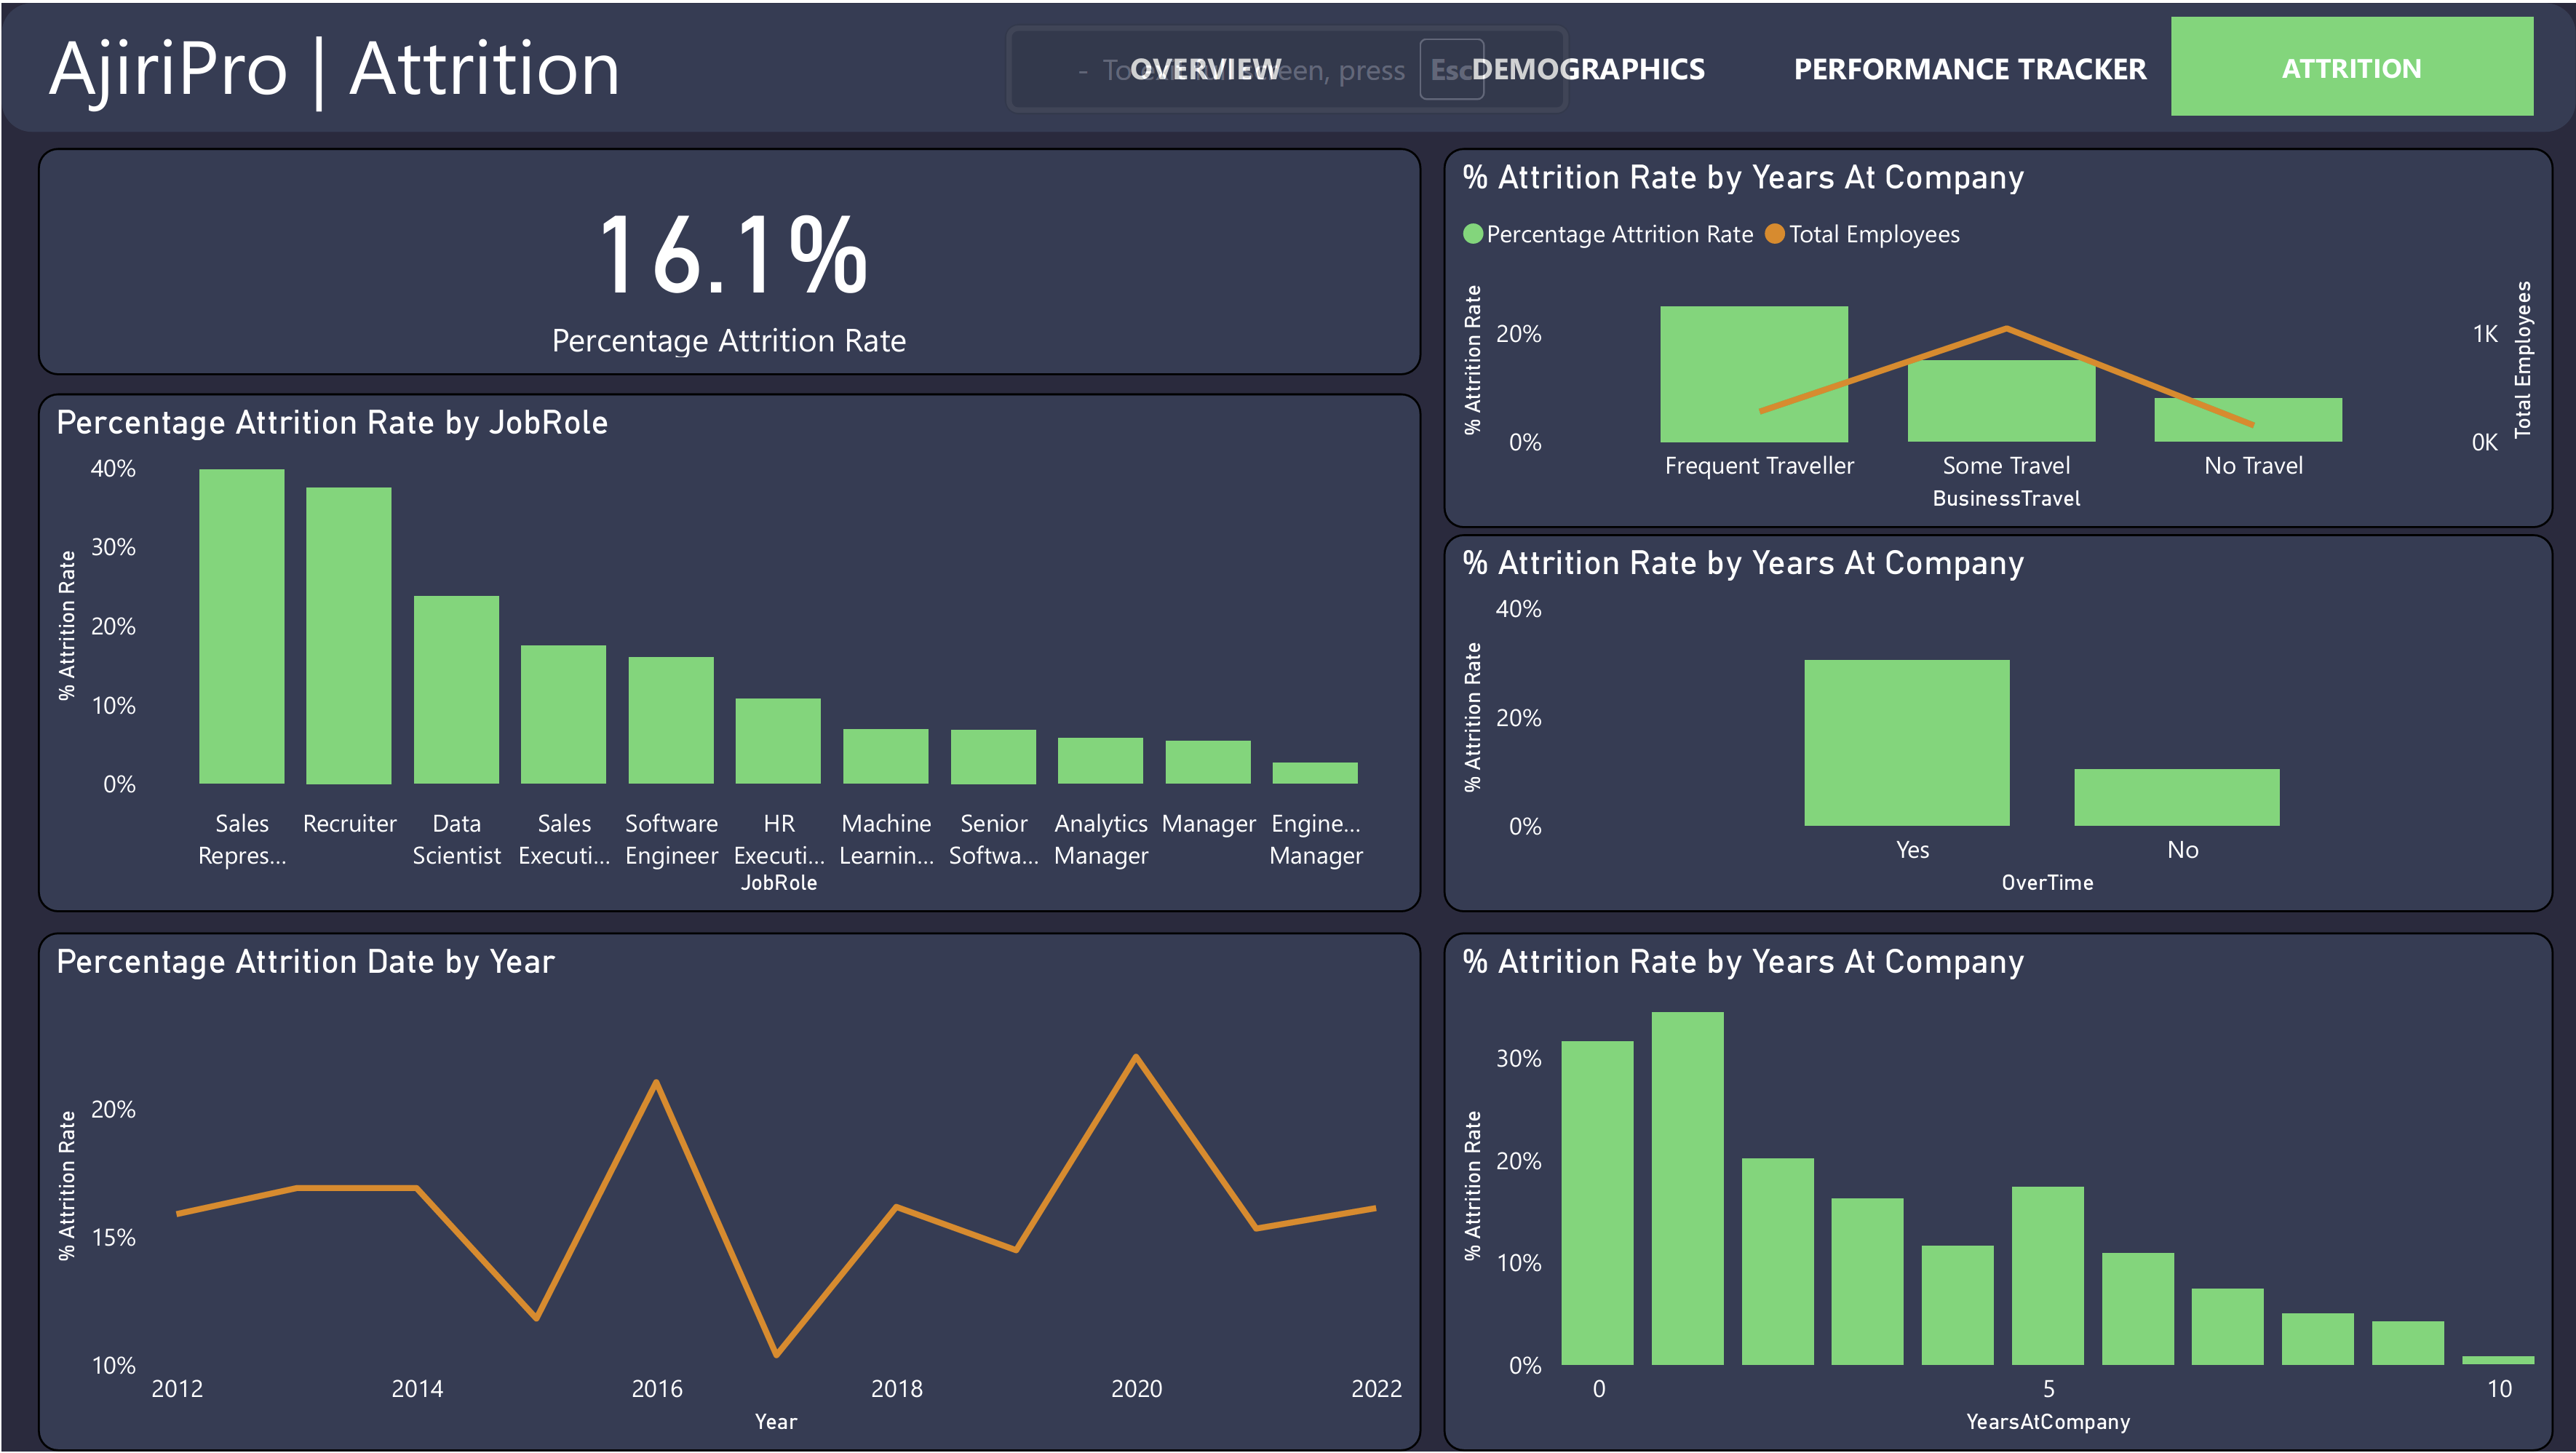

This screenshot's page, from the dashboard's own definition file:
{"tool":"powerbi","page":{"name":"ATTRITION","canvas":[1280,720],"ordinal":3},"visuals":[{"type":"shape","box":[0,0,1280,63.9],"z":0},{"type":"textbox","box":[18.3,0,447.6,63.6],"z":1000},{"type":"pageNavigator","box":[508.7,7.3,750.8,48.9],"z":2000},{"type":"card","fields":{"Values":["Calculated_Measures.Percentage Attrition Rate"]},"box":[18.1,72.4,687.7,112.2],"z":3000},{"type":"columnChart","fields":{"Category":["Employee.JobRole","Employee.Department"],"Y":["Calculated_Measures.Percentage Attrition Rate"]},"box":[18.1,194.2,687.7,258.2],"z":4000},{"type":"lineChart","fields":{"Category":["Date_Table.Date.Variation.Date Hierarchy.Year","Date_Table.Date.Variation.Date Hierarchy.Quarter","Date_Table.Date.Variation.Date Hierarchy.Month","Date_Table.Date.Variation.Date Hierarchy.Day"],"Y":["Calculated_Measures.Percentage Attrition Date"]},"box":[18.1,461.8,687.7,258.2],"z":5000},{"type":"columnChart","title":"% Attrition Rate by Years At Company","fields":{"Y":["Calculated_Measures.Percentage Attrition Rate"],"Category":["Employee.YearsAtCompany"]},"box":[716.6,462.1,552.5,258.2],"z":6000},{"type":"columnChart","title":"% Attrition Rate by Years At Company","fields":{"Y":["Calculated_Measures.Percentage Attrition Rate"],"Category":["Employee.OverTime"]},"box":[716.6,264.2,552.5,188.2],"z":7000},{"type":"lineStackedColumnComboChart","title":"% Attrition Rate by Years At Company","fields":{"Y":["Calculated_Measures.Percentage Attrition Rate"],"Category":["Employee.BusinessTravel"],"Y2":["Calculated_Measures.Total Employees"]},"box":[716.6,72.4,552.5,188.2],"z":8000}]}

Visuals, with their boxes on the page's 1280x720 design canvas (x1, y1, x2, y2). These are canvas units, not pixel positions in the 2576x1453 screenshot, which may show the page scaled, cropped or inside an application window:
shape: <bbox>0, 0, 1280, 64</bbox>
textbox: <bbox>18, 0, 466, 64</bbox>
pageNavigator: <bbox>509, 7, 1260, 56</bbox>
card - Calculated_Measures.Percentage Attrition Rate: <bbox>18, 72, 706, 185</bbox>
columnChart - Employee.JobRole x Employee.Department: <bbox>18, 194, 706, 452</bbox>
lineChart - Date_Table.Date.Variation.Date Hierarchy.Year x Date_Table.Date.Variation.Date Hierarchy.Quarter: <bbox>18, 462, 706, 720</bbox>
"% Attrition Rate by Years At Company" columnChart: <bbox>717, 462, 1269, 720</bbox>
"% Attrition Rate by Years At Company" columnChart: <bbox>717, 264, 1269, 452</bbox>
"% Attrition Rate by Years At Company" lineStackedColumnComboChart: <bbox>717, 72, 1269, 261</bbox>
